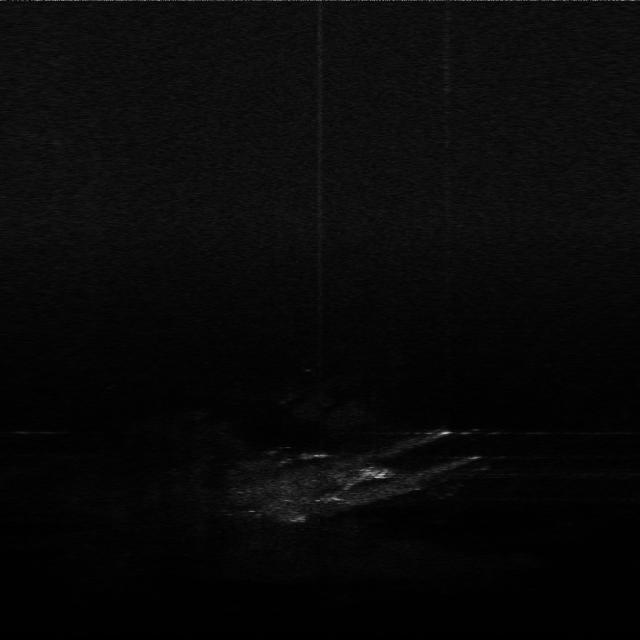rov: (357, 463, 389, 481)
